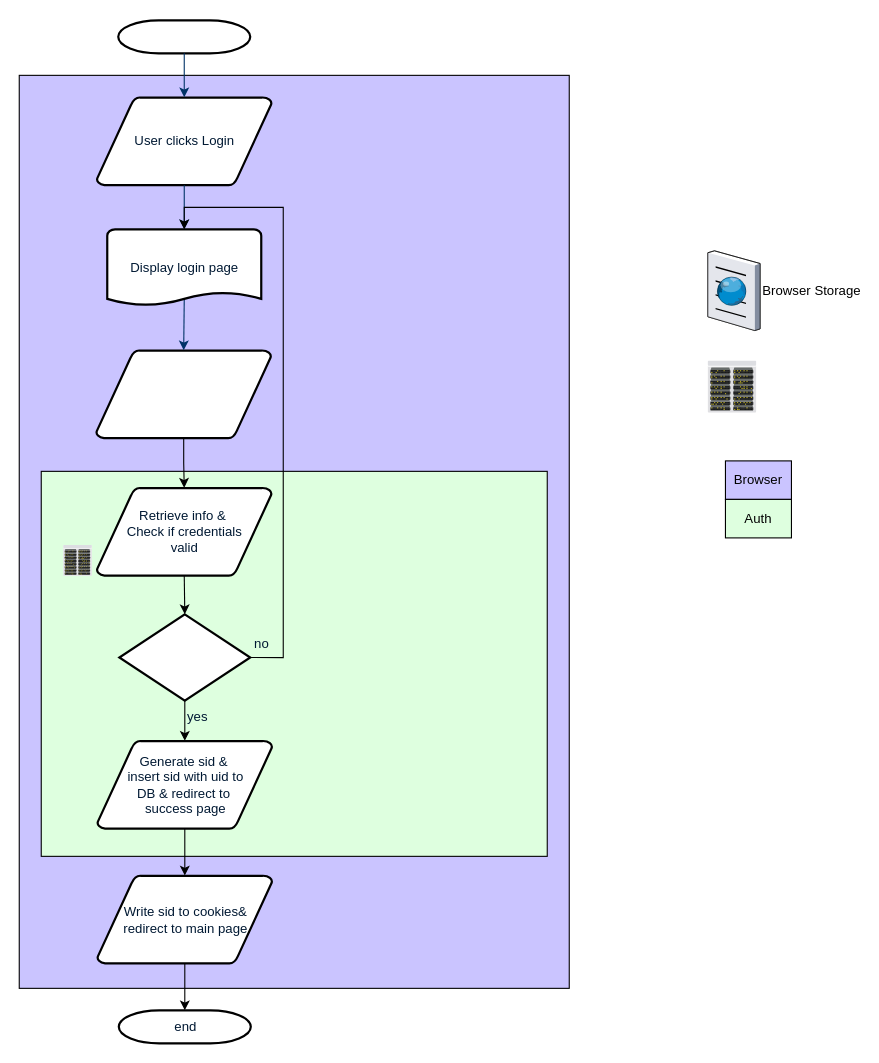
Image size: 879x1063. Some labels were removed from this diagram. Here are the shapes that lost their labels. From the top down, the centre of each, then its label:
pixel 184 36: start
pixel 183 394: POST credentials
pixel 731 386: Auth Database
pixel 184 657: valid?
